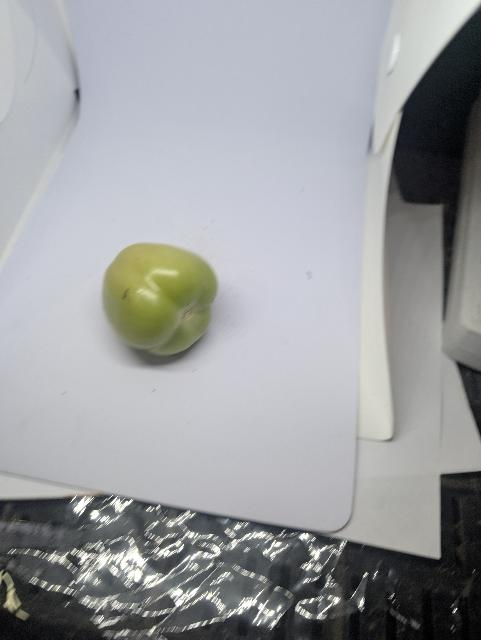green: (101, 242, 220, 360)
